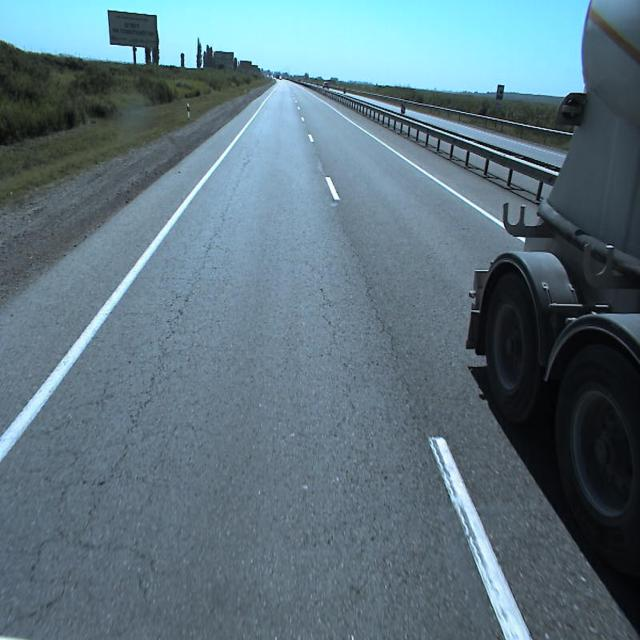road: (0, 80, 640, 639)
